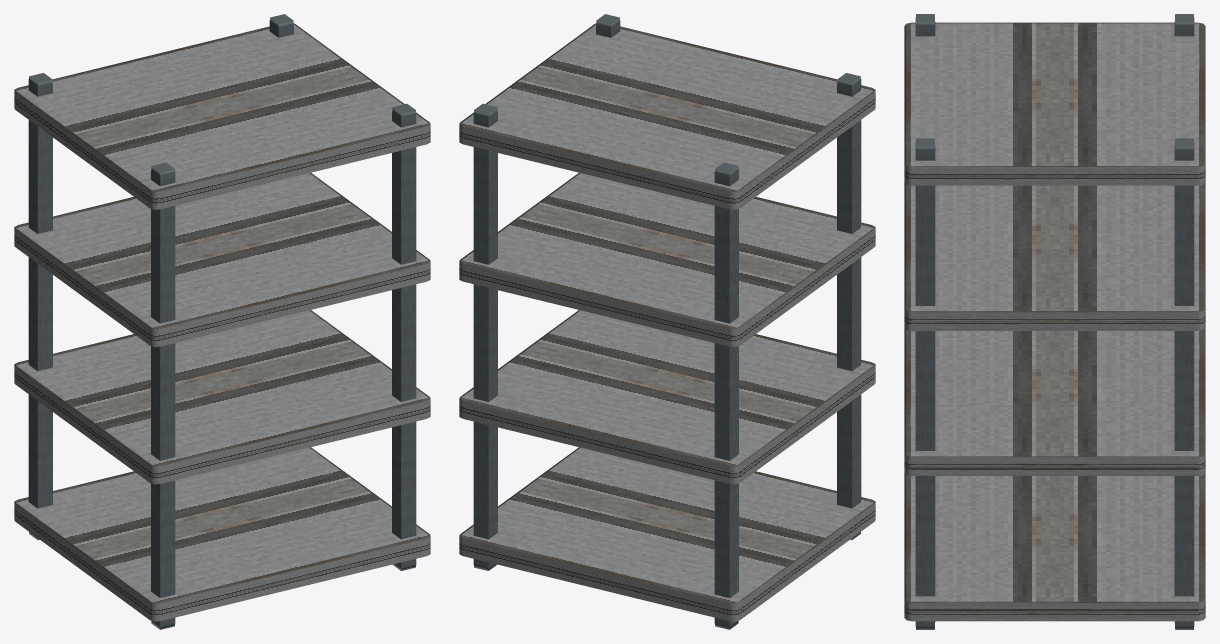
File: bag-rack.glb
3 views of the same model, side by side, from view 1: azimuth 30°, elevation 25°; view 2: azimuth 150°, elevation 25°; view 3: azimuth 270°, elevation 25° (orthographic). The views are drawn at different scales.
Visible parts, largest first — view 1: shelf (×4), leg (×3); view 2: shelf (×4), leg (×3); view 3: shelf (×4), leg (×4).
Part boxes in pixels (<box>): shelf (×4): <box>14,23,430,621</box>; leg (×3): <box>28,73,416,629</box>; shelf (×4): <box>459,23,875,621</box>; leg (×3): <box>473,73,861,629</box>; shelf (×4): <box>904,22,1205,621</box>; leg (×4): <box>915,14,1194,629</box>.
Bounding box in the file's own units: 0.5 × 0.78 × 0.44.
2 materials, 2 textured.
